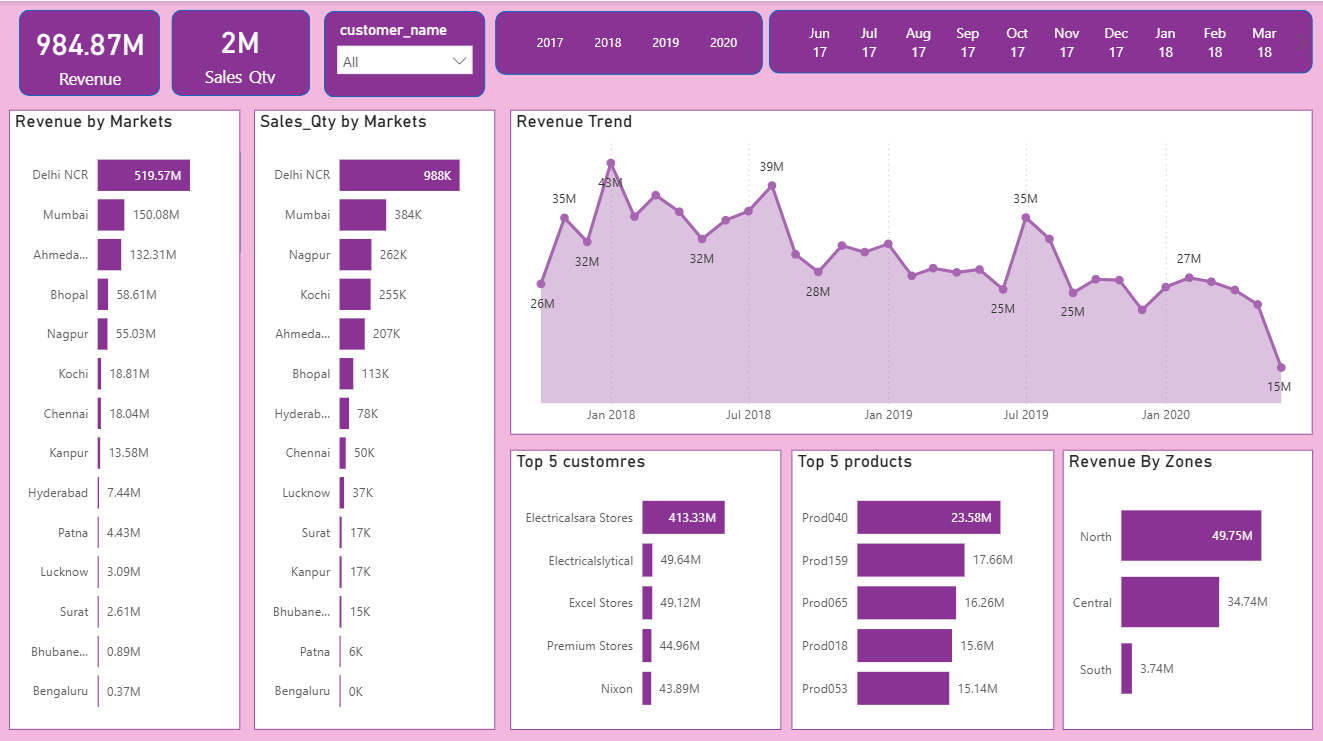

The page's visual inventory and layout, read from the dashboard file:
{"tool":"powerbi","page":{"name":"Page 1","canvas":[1280,720],"ordinal":0},"visuals":[{"type":"shape","box":[313.7,9.7,155.6,83.2],"z":0},{"type":"shape","box":[743.2,8.4,524.8,61.5],"z":1000},{"type":"shape","box":[479,9.7,258.2,61.5],"z":2000},{"type":"shape","box":[19.3,8.4,136.3,83.2],"z":3000},{"type":"shape","box":[44,145.5,189.5,96.6],"z":4000},{"type":"shape","box":[166.5,8.4,133.9,83.2],"z":5000},{"type":"card","fields":{"Values":["BaseMeasures.Revenue"]},"box":[24.1,13.3,127.9,74.8],"z":6000},{"type":"card","fields":{"Values":["BaseMeasures.Sales_Qty"]},"box":[177.3,13.3,111,71.2],"z":7000},{"type":"barChart","title":"Sales_Qty by Markets","fields":{"Y":["BaseMeasures.Sales_Qty"],"Category":["sales markets.markets_name"]},"box":[246.1,105,232.8,598.4],"z":8000},{"type":"barChart","title":"Revenue by Markets","fields":{"Y":["BaseMeasures.Revenue"],"Category":["sales markets.markets_name"]},"box":[9.7,105,223.2,598.4],"z":9000},{"type":"slicer","fields":{"Values":["sales date.year"]},"box":[479,14.5,271.4,51.9],"z":10000},{"type":"slicer","fields":{"Values":["sales date.cy_date"]},"box":[743.2,9.7,524.8,60.3],"z":11000},{"type":"barChart","title":"Top 5 customres ","fields":{"Y":["BaseMeasures.Revenue"],"Category":["sales customers.custmer_name"]},"box":[493.4,433.1,261.8,270.2],"z":12000},{"type":"barChart","title":"Top 5 products","fields":{"Y":["BaseMeasures.Revenue"],"Category":["sales products.product_code"]},"box":[764.9,433.1,253.4,270.2],"z":13000},{"type":"lineChart","title":"Revenue Trend","fields":{"Y":["BaseMeasures.Revenue"],"Category":["sales date.cy_date.Variation.Date Hierarchy.Year","sales date.cy_date.Variation.Date Hierarchy.Quarter","sales date.cy_date.Variation.Date Hierarchy.Month","sales date.cy_date.Variation.Date Hierarchy.Day"]},"box":[493.4,105,774.5,313.7],"z":14000},{"type":"barChart","title":"Revenue By Zones","fields":{"Y":["BaseMeasures.Revenue"],"Category":["sales markets.zone"]},"box":[1026.7,433.1,241.3,270.2],"z":15000},{"type":"slicer","fields":{"Values":["sales customers.custmer_name"]},"box":[316.1,14.5,150.8,72.4],"z":16000}]}

Visuals, with their boxes in screenshot pixels (x1, y1, x2, y2), scaled from the page's 1280x720 canvas onto the 1323x741 screenshot:
shape: 324 10 485 96
shape: 768 9 1311 72
shape: 495 10 762 73
shape: 20 9 161 94
shape: 45 150 241 249
shape: 172 9 310 94
card - BaseMeasures.Revenue: 25 14 157 91
card - BaseMeasures.Sales_Qty: 183 14 298 87
"Sales_Qty by Markets" barChart: 254 108 495 724
"Revenue by Markets" barChart: 10 108 241 724
slicer - sales date.year: 495 15 776 68
slicer - sales date.cy_date: 768 10 1311 72
"Top 5 customres " barChart: 510 446 781 724
"Top 5 products" barChart: 791 446 1053 724
"Revenue Trend" lineChart: 510 108 1310 431
"Revenue By Zones" barChart: 1061 446 1311 724
slicer - sales customers.custmer_name: 327 15 483 89
